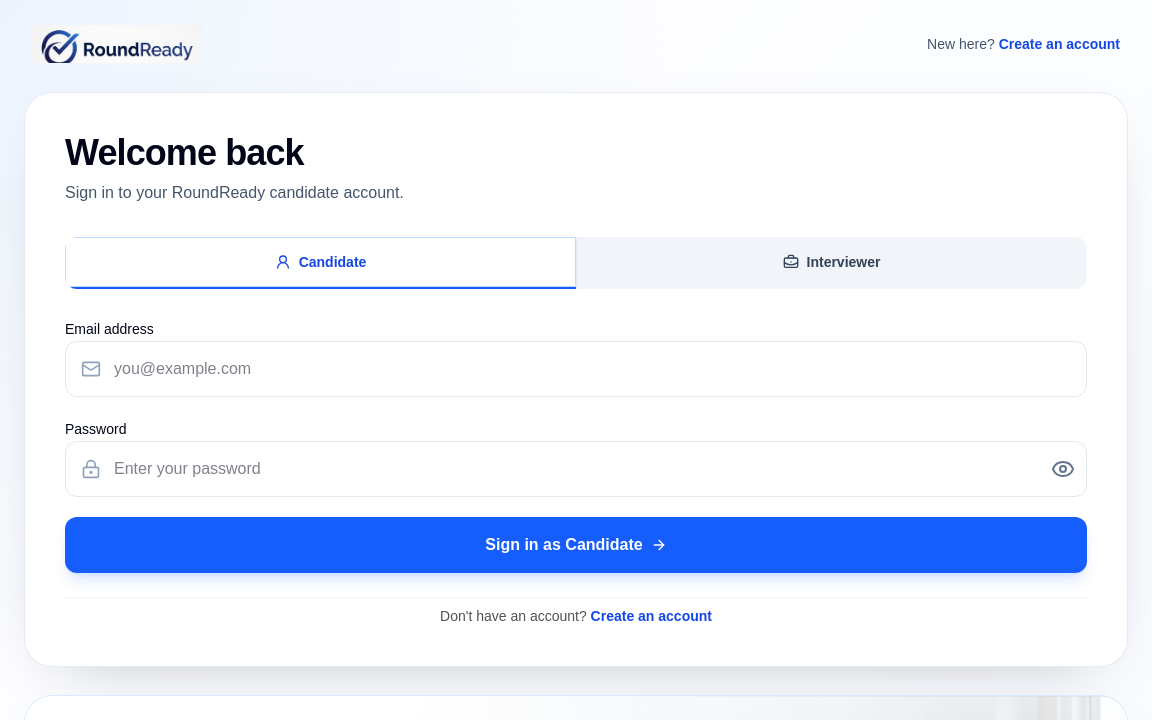
Test: authentication forms › updates the login context for an interviewer
Click the button "Interviewer": coordinates (832, 263) [576, 237, 1087, 289]
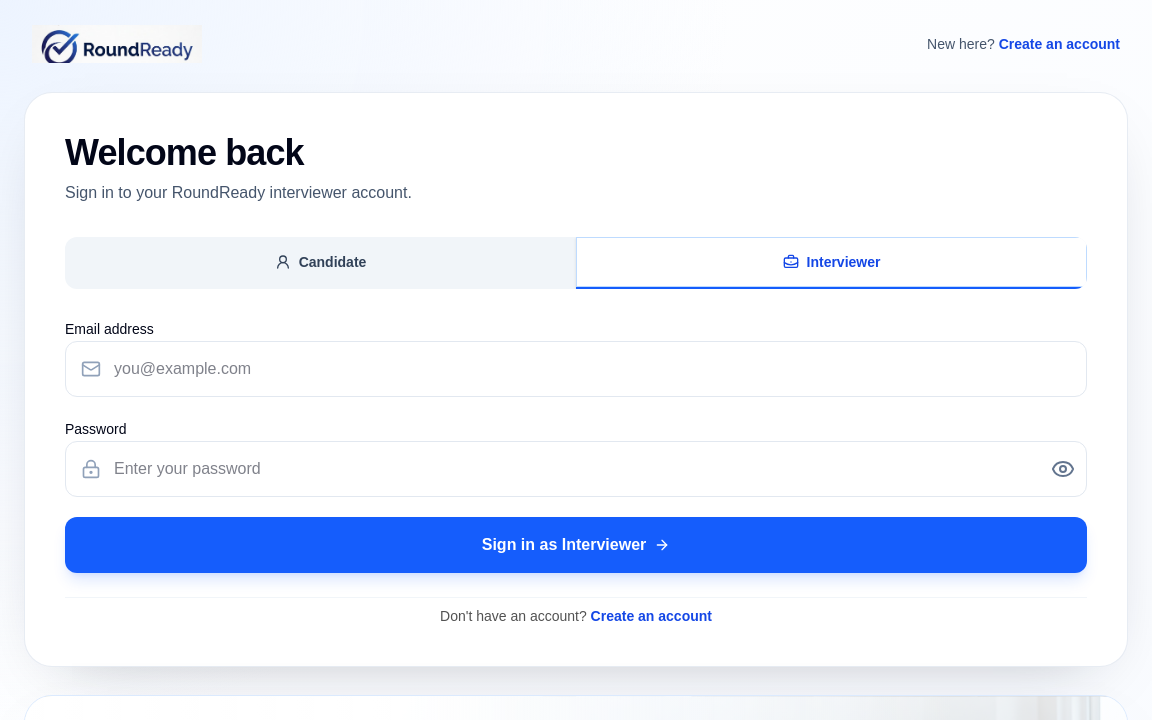
expect the text "Sign in to your RoundReady interviewer account." is shown: met, box [65, 184, 412, 201]
expect the button "Sign in as Interviewer" is shown: met, box [65, 517, 1087, 573]
